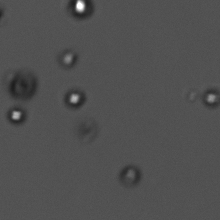Dead Cell: (9, 69, 41, 102), (74, 115, 104, 147), (117, 161, 142, 187)
Living Cell: (61, 84, 90, 108), (65, 1, 98, 21), (57, 47, 80, 70), (5, 106, 27, 126), (201, 85, 219, 108)
